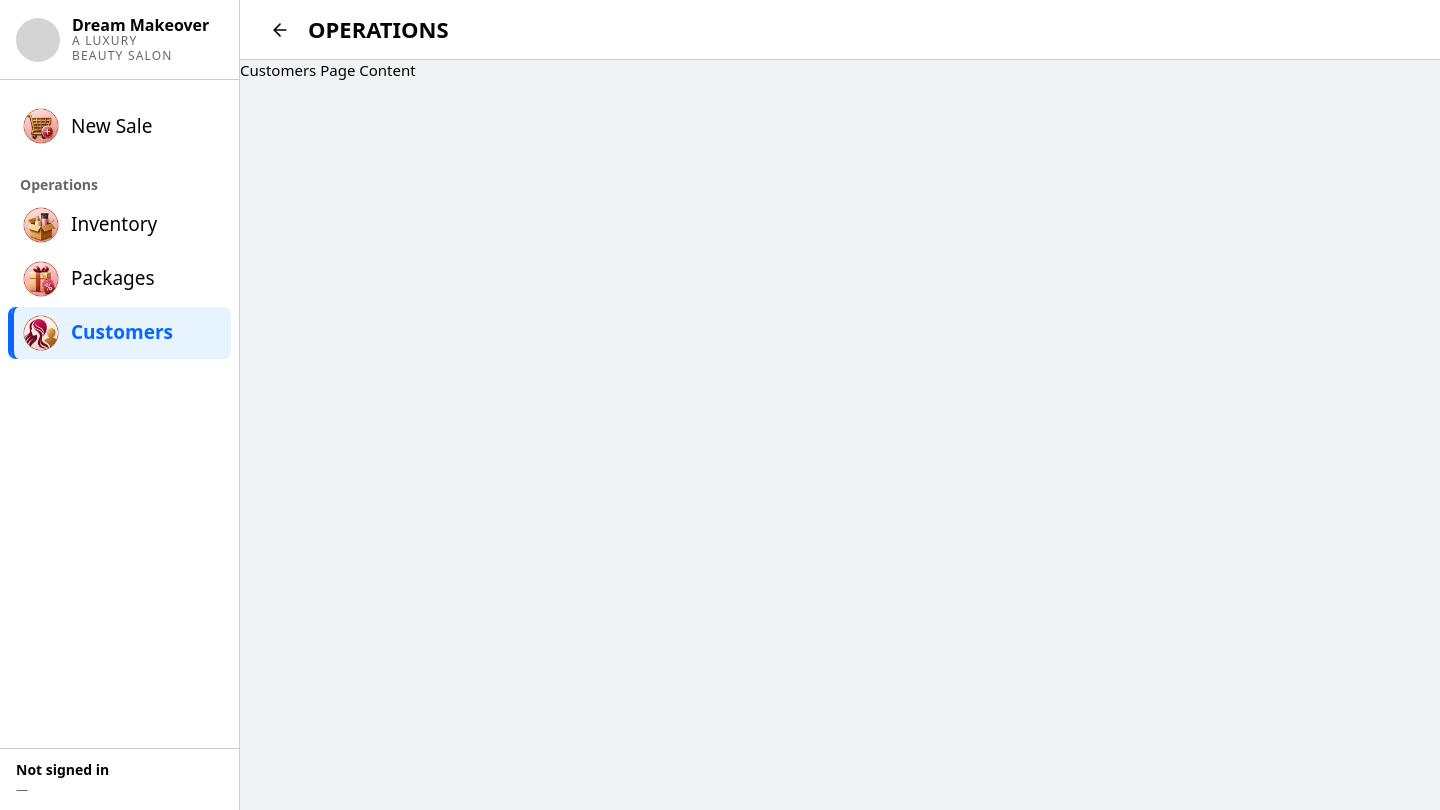
Test: AppLayout › returns to the dashboard when there is no earlier app history
Click the button named "go back". click: click(280, 30)
box: x1=264 y1=12 x2=296 y2=46
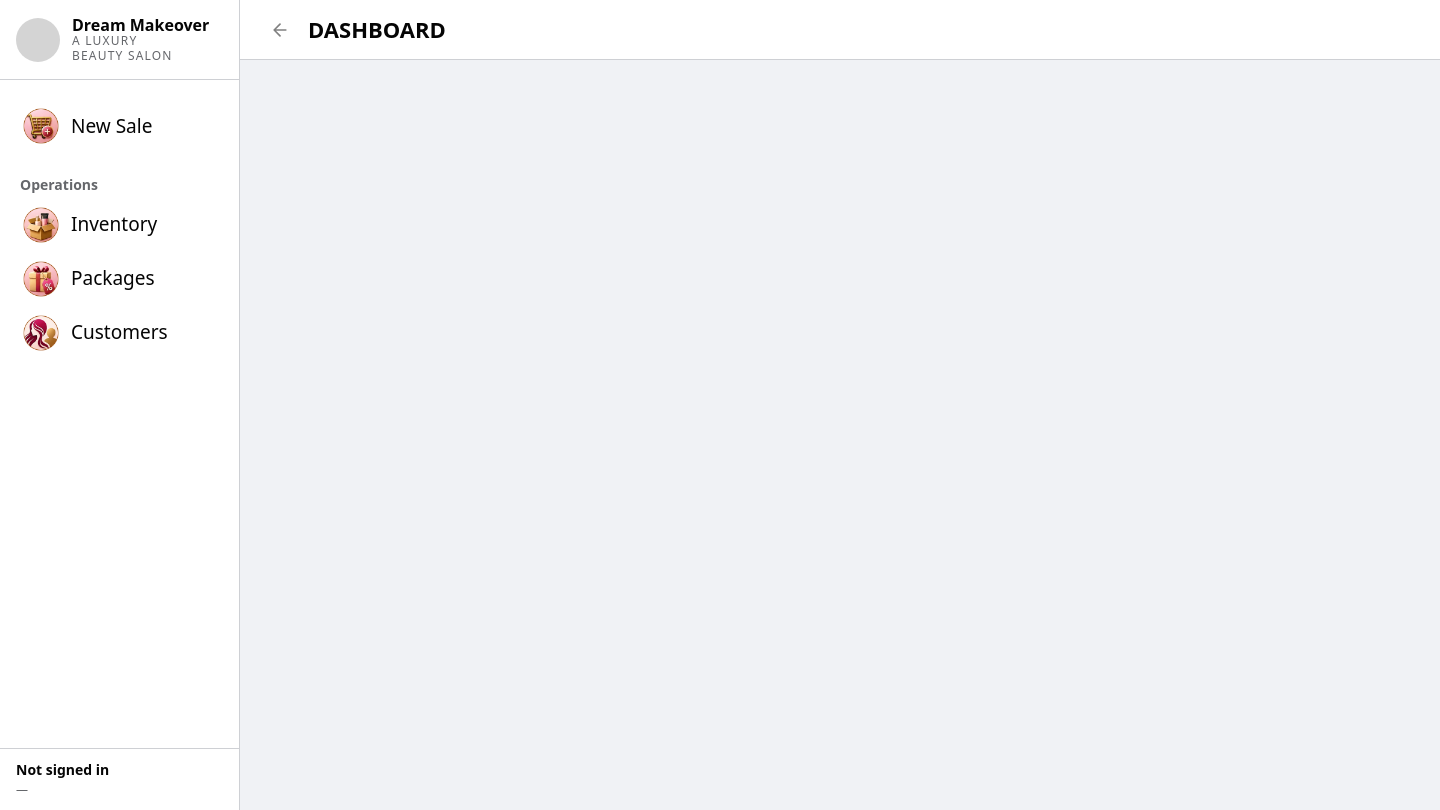
Now the heading "Dashboard" is shown, box x1=308 y1=16 x2=446 y2=43
